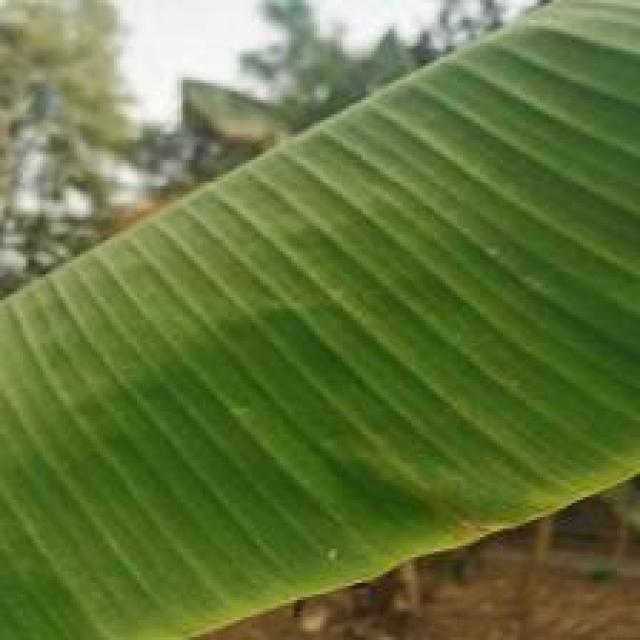Black_leaf_spot: (6, 0, 640, 556)
